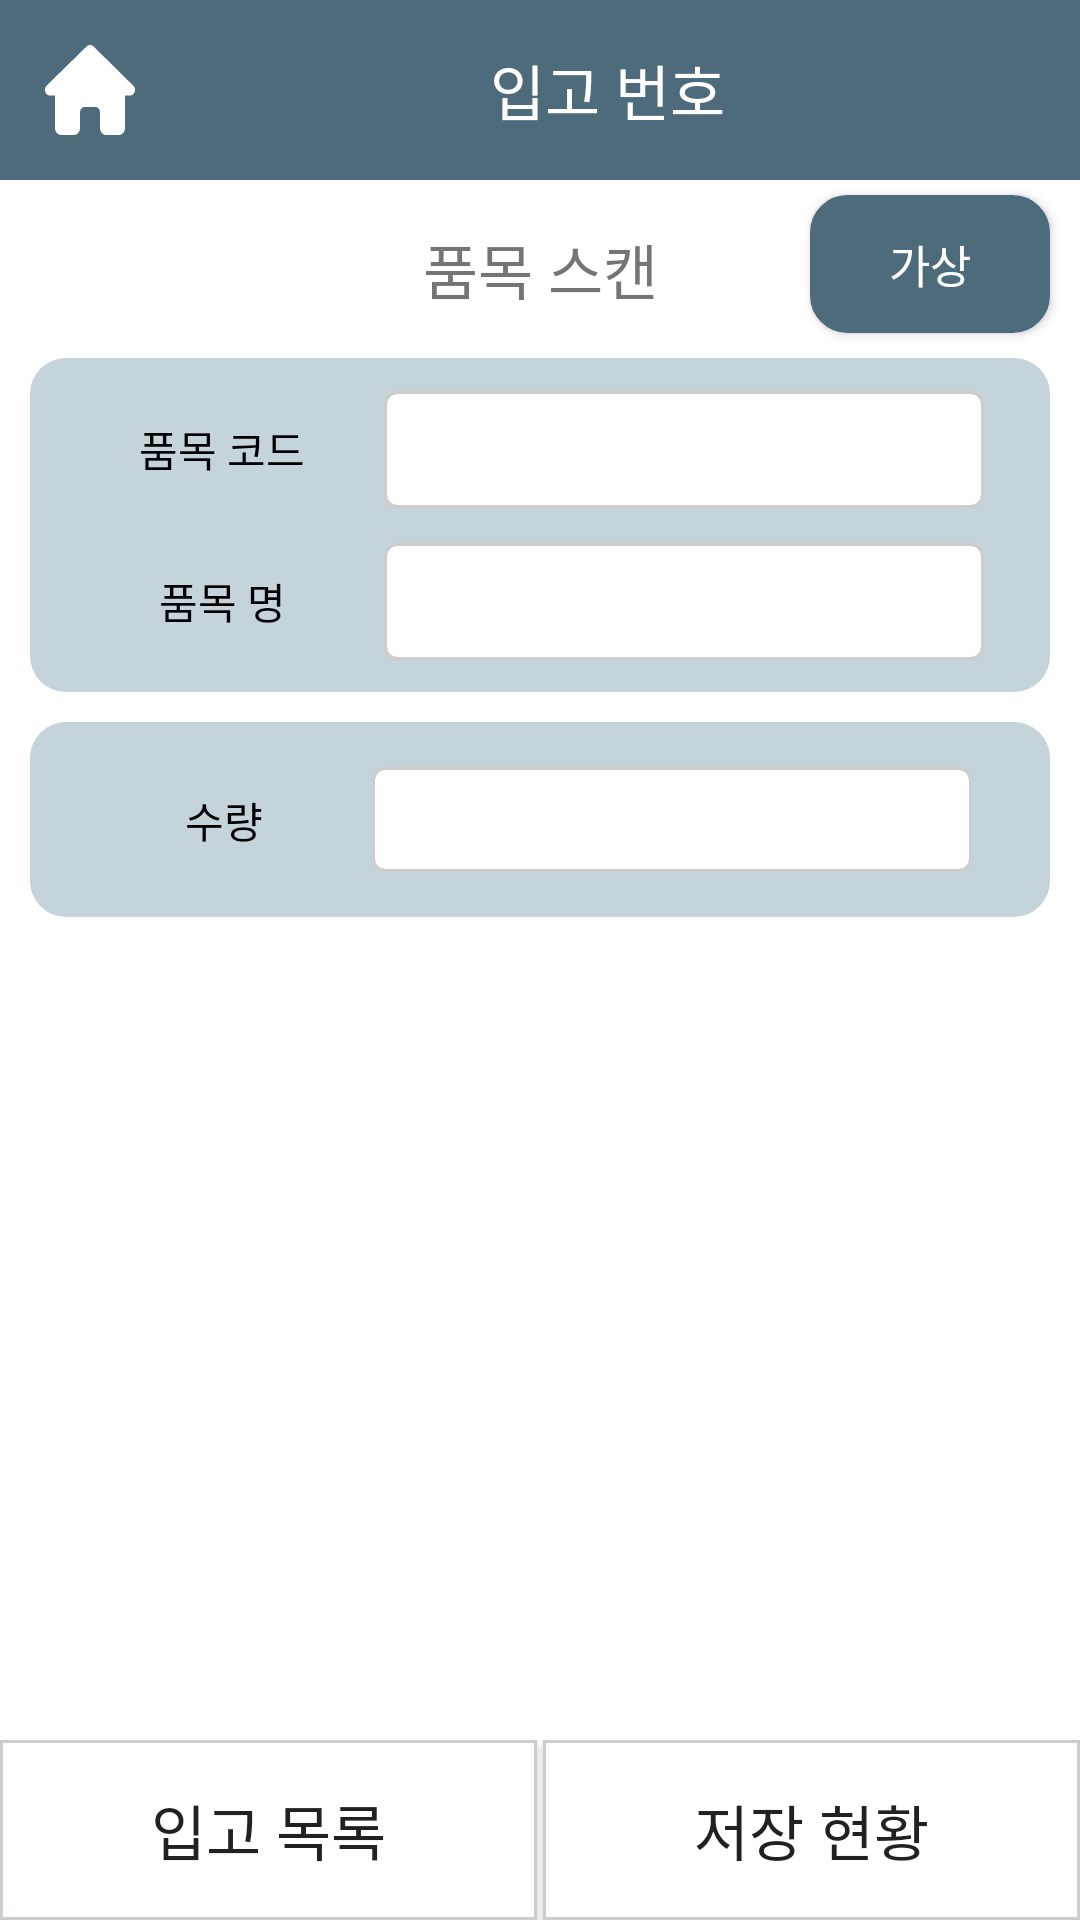

Screen size 1080 × 1920. Icon name, then its box in pixels as {"x1": x1, "y1": y1, "x2": x2, "y2": y2}:
house: {"x1": 45, "y1": 45, "x2": 135, "y2": 135}
